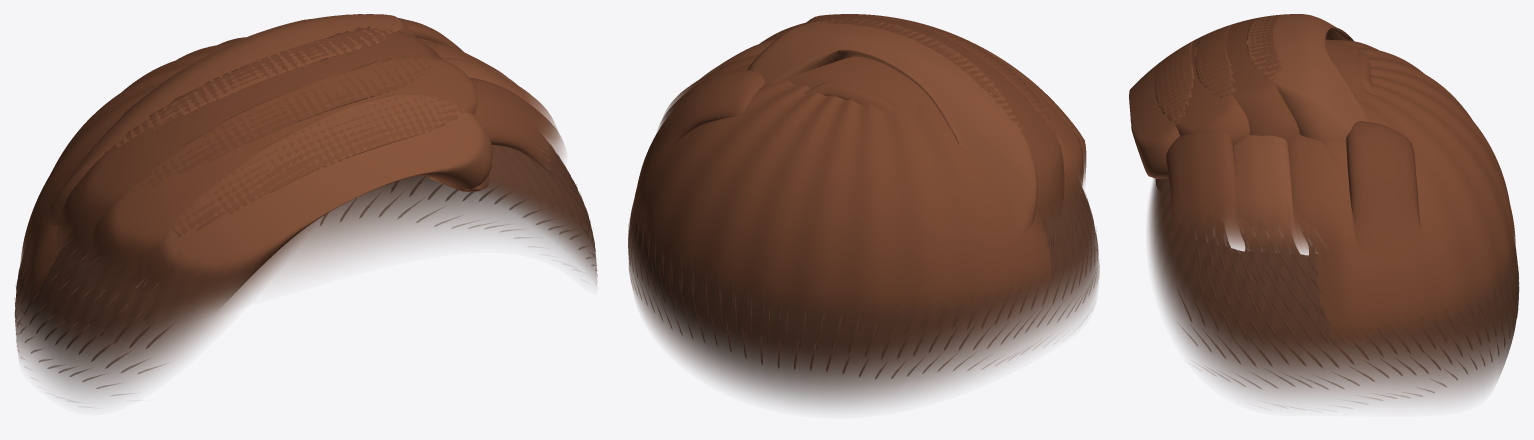
The model's file is Masculine-taper-hair.glb.
3 views of the same model, side by side, from view 1: azimuth 30°, elevation 25°; view 2: azimuth 150°, elevation 25°; view 3: azimuth 270°, elevation 25° (orthographic). The views are drawn at different scales.
Parts seen in each view (by area): view 1: Hair / Taper short sides, Hair / Taper top 0, Hair / Taper top 1, Hair / Taper top 2, Hair / Taper top 3, Hair / blended back crown214, Hair / Taper fine direction, Hair / Taper short sweep 0, Hair / Taper short sweep 1, Hair / Taper short sweep 2, Hair / Taper short sweep 3; view 2: Hair / blended back crown214, Hair / Taper short sides, Hair / Taper top 3, Hair / Taper top 2, Hair / Taper fine direction, Hair / Taper top 4, Hair / Taper short sweep 3, Hair / Taper top 1, Hair / Taper top 0, Hair / Taper short sweep 2, Hair / Taper short sweep 1; view 3: Hair / Taper short sides, Hair / blended back crown214, Hair / Taper top 3, Hair / Taper short sweep 3, Hair / Taper fine direction, Hair / Taper short sweep 0, Hair / Taper short sweep 1, Hair / Taper short sweep 2, Hair / Taper top 2, Hair / Taper top 1, Hair / Taper top 0, Hair / Taper top 4.
Boxes of the visible parts, x1,y1,x2,y2 form: Hair / Taper short sides: (15, 137, 596, 400); Hair / Taper top 0: (135, 93, 492, 305); Hair / Taper top 1: (86, 55, 478, 288); Hair / Taper top 2: (57, 26, 442, 261); Hair / Taper top 3: (41, 14, 416, 225); Hair / blended back crown214: (20, 37, 435, 299); Hair / Taper fine direction: (14, 138, 597, 395); Hair / Taper short sweep 0: (470, 77, 565, 173); Hair / Taper short sweep 1: (441, 57, 557, 130); Hair / Taper short sweep 2: (422, 41, 516, 84); Hair / Taper short sweep 3: (399, 18, 464, 52); Hair / blended back crown214: (632, 64, 1050, 317); Hair / Taper short sides: (628, 183, 1098, 407); Hair / Taper top 3: (747, 18, 1037, 239); Hair / Taper top 2: (803, 14, 1064, 230); Hair / Taper fine direction: (628, 186, 1099, 379); Hair / Taper top 4: (787, 56, 938, 114); Hair / Taper short sweep 3: (657, 70, 764, 150); Hair / Taper top 1: (809, 14, 1083, 214); Hair / Taper top 0: (940, 29, 1086, 186); Hair / Taper short sweep 2: (663, 55, 758, 116); Hair / Taper short sweep 1: (700, 39, 776, 78); Hair / Taper short sides: (1148, 178, 1518, 403); Hair / blended back crown214: (1312, 40, 1515, 344); Hair / Taper top 3: (1247, 14, 1367, 141); Hair / Taper short sweep 3: (1346, 121, 1420, 244); Hair / Taper fine direction: (1177, 215, 1519, 403); Hair / Taper short sweep 0: (1166, 132, 1244, 246); Hair / Taper short sweep 1: (1223, 135, 1308, 251); Hair / Taper short sweep 2: (1287, 134, 1369, 252); Hair / Taper top 2: (1194, 14, 1299, 141); Hair / Taper top 1: (1154, 24, 1249, 145); Hair / Taper top 0: (1129, 41, 1194, 187); Hair / Taper top 4: (1325, 39, 1376, 103).
Size of the model in its own units: 0.9745 by 0.6968 by 0.7374.
